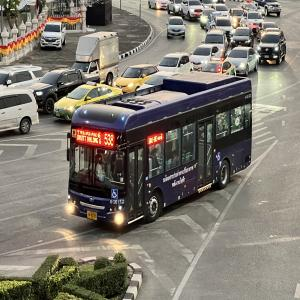Bus Line Number: (103, 132, 115, 148)
Bus Side Number: (109, 198, 126, 206)
Destination Sign: (76, 128, 103, 147)
TSB-Bus: (66, 74, 253, 230)
